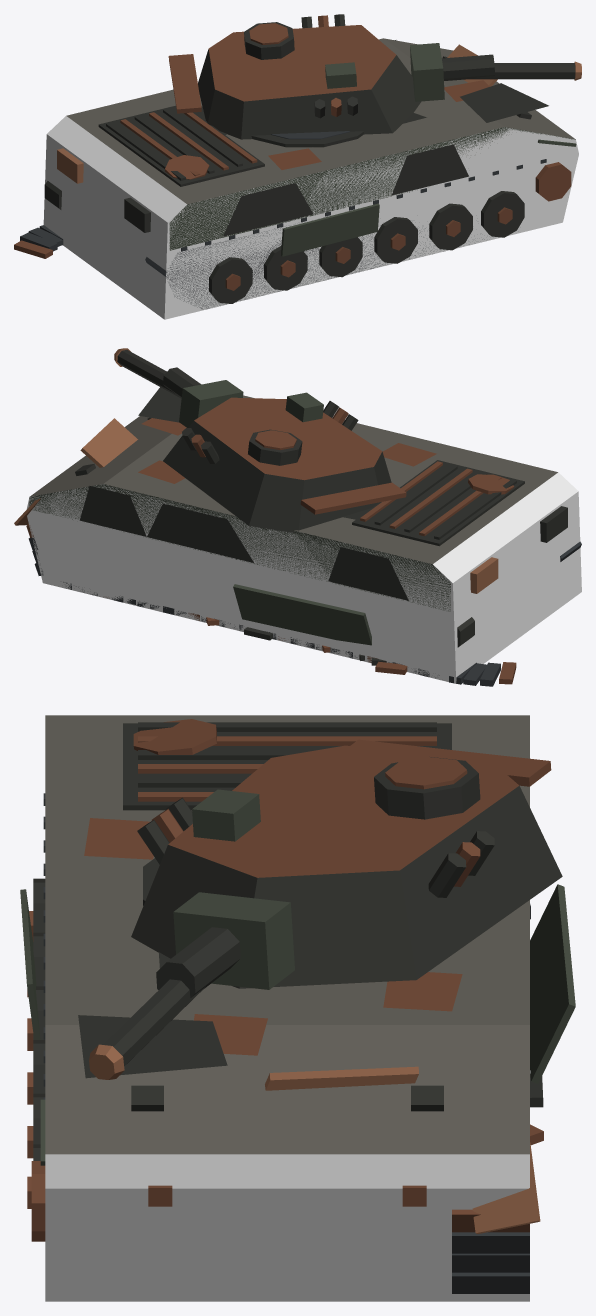
File: armored_wreck_01.glb
The picture shows the model from 3 angles, top to bottom: view 1: azimuth 30°, elevation 25°; view 2: azimuth 150°, elevation 25°; view 3: azimuth 270°, elevation 25°; orthographic projection. The views are drawn at different scales.
Visible parts, largest first — view 1: COL_HullAndRunningGear, Char_Geometry, BurntPaint_Geometry, Char_Geometry.001, Rust_Geometry, BurntPaint_Geometry.001, TrackGraphite_Geometry, RustLight_Geometry; view 2: COL_HullAndRunningGear, BurntPaint_Geometry, Char_Geometry, Char_Geometry.001, Rust_Geometry, BurntPaint_Geometry.001, RustLight_Geometry, TrackGraphite_Geometry; view 3: BurntPaint_Geometry, COL_HullAndRunningGear, Char_Geometry.001, Char_Geometry, Rust_Geometry, BurntPaint_Geometry.001, RustLight_Geometry, TrackGraphite_Geometry.
Part boxes in pixels (x1,y1,x2,y2): COL_HullAndRunningGear: (43,116,578,319); Char_Geometry: (44,14,575,303); BurntPaint_Geometry: (66,38,575,250); Char_Geometry.001: (198,25,421,139); Rust_Geometry: (14,15,571,290); BurntPaint_Geometry.001: (281,43,576,256); TrackGraphite_Geometry: (20,131,546,309); RustLight_Geometry: (57,44,581,183); COL_HullAndRunningGear: (26,472,581,683); BurntPaint_Geometry: (29,395,557,611); Char_Geometry: (75,350,567,665); Char_Geometry.001: (163,397,391,532); Rust_Geometry: (26,407,516,684); BurntPaint_Geometry.001: (179,380,371,645); RustLight_Geometry: (14,348,498,593); TrackGraphite_Geometry: (28,537,581,686); BurntPaint_Geometry: (45,715,529,1154); COL_HullAndRunningGear: (45,1154,529,1301); Char_Geometry.001: (131,745,562,988); Char_Geometry: (33,722,543,1160); Rust_Geometry: (27,719,551,1241); BurntPaint_Geometry.001: (20,789,575,1165); RustLight_Geometry: (89,1044,540,1234); TrackGraphite_Geometry: (43,793,530,1293).
Size of the model in its own units: 7.34 by 2.51 by 3.71.
